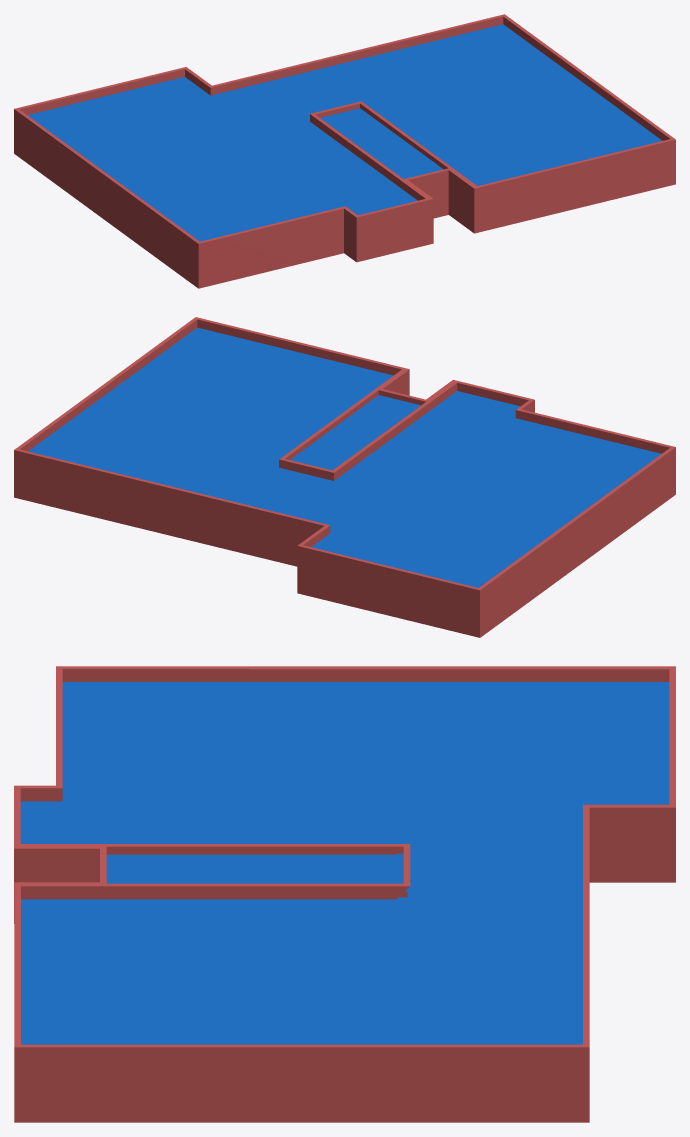
File: SM_house_section_19.fbx
The picture shows the model from 3 angles, top to bottom: view 1: azimuth 30°, elevation 25°; view 2: azimuth 150°, elevation 25°; view 3: azimuth 270°, elevation 25°; orthographic projection. The views are drawn at different scales.
Visible parts, largest first — view 1: Plane_4; view 2: Plane_4; view 3: Plane_4.
Part boxes in pixels (x1,y1,x2,y2): Plane_4: (14, 14, 675, 288); Plane_4: (14, 317, 675, 637); Plane_4: (14, 666, 675, 1122).
Size of the model in its own units: 2716 by 250 by 1994.
